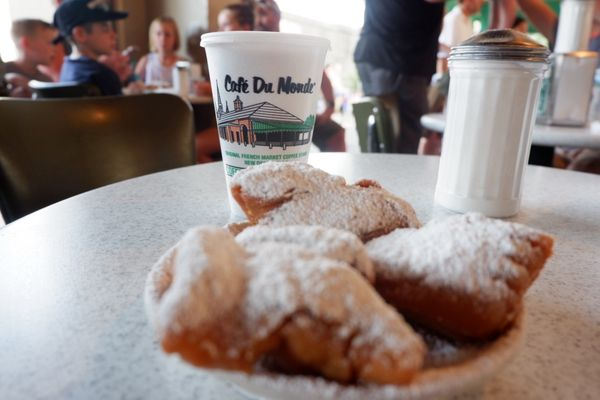pizza: (201, 29, 330, 225), (433, 29, 551, 218), (548, 48, 600, 127)
